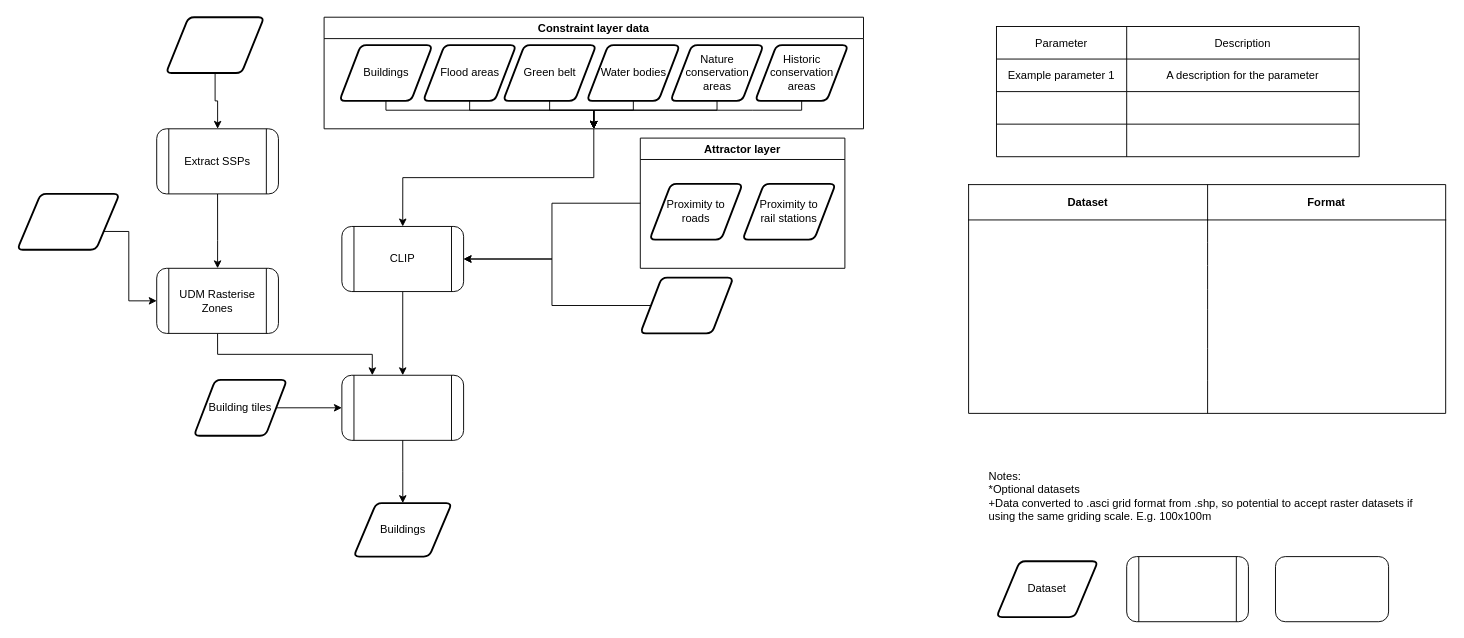
Some shapes in this 1464 by 638 pixel diagram are drawn without their labels. Here are the shapes that lost their labels. From the top down, the centre of each, then its label:
At (215,44): "Socioeconomic data".
At (68,221): "Administrative boundaries".
At (686,305): "Density surface".
At (402,407): "UDM".
At (1187,589): "Model/process (already developed)".
At (1332,589): "Model/process not developed".
